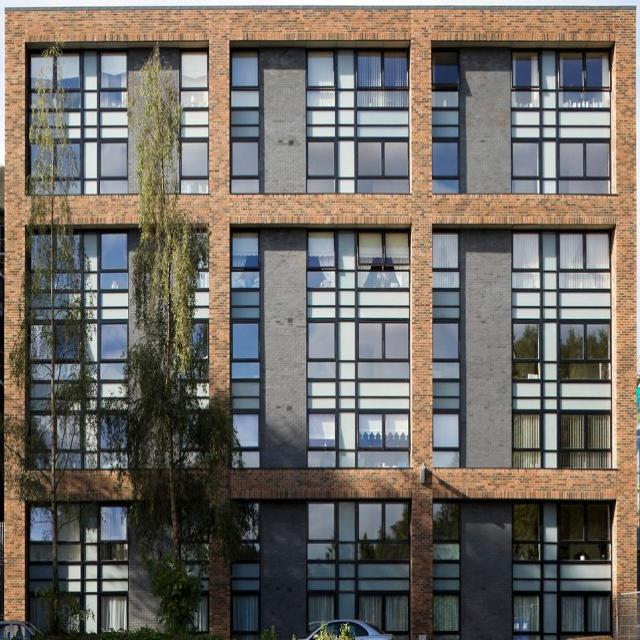plant: (104, 39, 254, 638), (0, 45, 107, 537)
wall: (4, 1, 635, 640)
windows: (557, 503, 613, 564), (359, 320, 410, 381), (562, 410, 612, 470), (29, 497, 78, 558), (558, 323, 610, 378), (357, 504, 412, 556), (357, 50, 408, 106), (560, 137, 610, 194), (32, 409, 84, 463), (31, 322, 80, 379), (560, 233, 611, 287), (357, 233, 408, 287), (358, 141, 410, 193), (33, 50, 81, 105), (28, 232, 80, 282), (560, 592, 616, 638), (560, 56, 609, 107), (31, 135, 83, 181), (26, 594, 77, 638), (358, 596, 407, 637), (358, 415, 412, 450), (229, 320, 261, 379), (230, 227, 260, 289), (306, 503, 338, 561), (430, 317, 460, 378), (308, 45, 336, 110), (512, 316, 540, 380), (97, 233, 129, 289), (511, 407, 540, 468), (98, 50, 127, 108), (514, 229, 542, 289), (308, 321, 336, 378), (432, 228, 458, 289), (514, 500, 539, 563), (309, 228, 335, 288), (309, 136, 335, 194), (512, 55, 541, 106), (512, 136, 538, 191), (100, 501, 126, 556), (96, 322, 122, 377), (99, 409, 125, 464), (430, 54, 457, 105), (433, 140, 458, 194), (434, 499, 457, 557), (179, 48, 208, 93), (233, 586, 258, 638), (96, 136, 126, 178), (234, 496, 258, 548), (96, 594, 128, 633), (308, 410, 339, 450), (514, 594, 541, 639), (231, 409, 261, 449), (179, 137, 207, 179), (312, 596, 342, 634), (230, 49, 258, 89), (434, 598, 459, 639), (434, 409, 458, 450), (233, 138, 258, 177)
